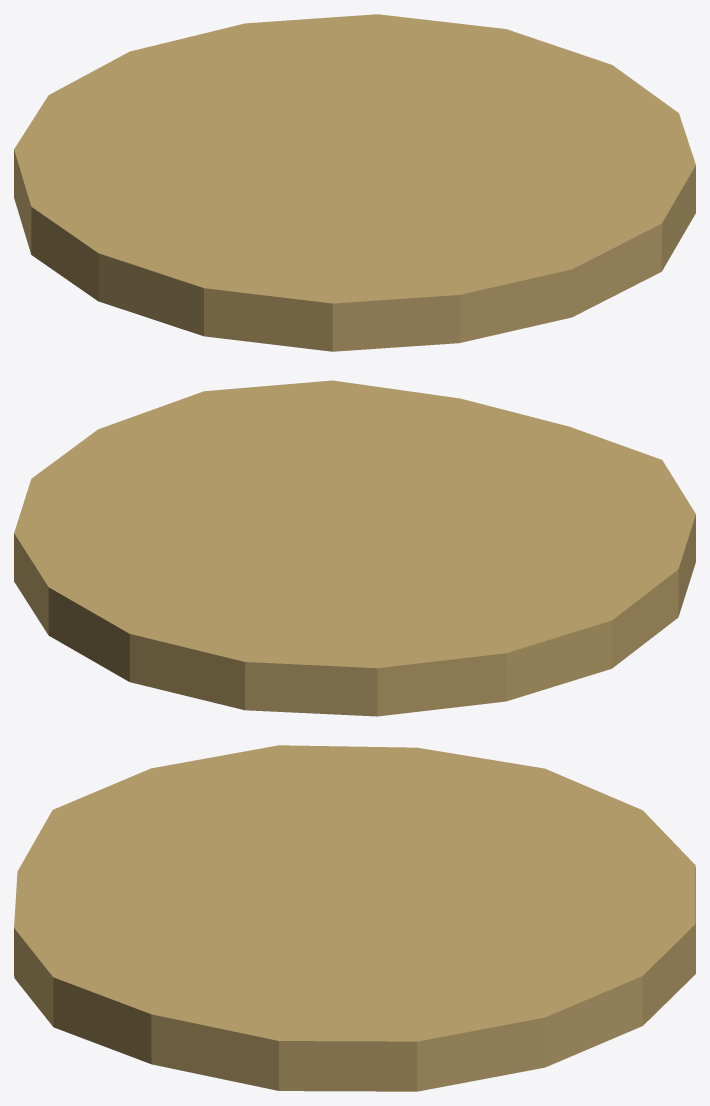
The model's file is PitsaPohja_Collider.fbx.
The picture shows the model from 3 angles, top to bottom: view 1: azimuth 30°, elevation 25°; view 2: azimuth 150°, elevation 25°; view 3: azimuth 270°, elevation 25°; orthographic projection. The views are drawn at different scales.
Visible parts, largest first — view 1: Pitsa-ColliderPohja; view 2: Pitsa-ColliderPohja; view 3: Pitsa-ColliderPohja.
Part boxes in pixels (x1,y1,x2,y2): Pitsa-ColliderPohja: (14,14,695,351); Pitsa-ColliderPohja: (14,380,695,716); Pitsa-ColliderPohja: (14,745,695,1091).
Size of the model in its own units: 162 by 15.36 by 159.
